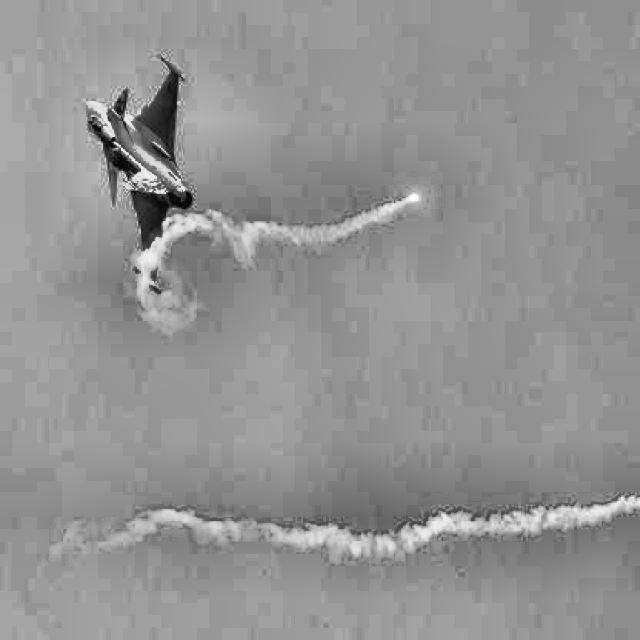JAS39: (81, 54, 193, 294)
